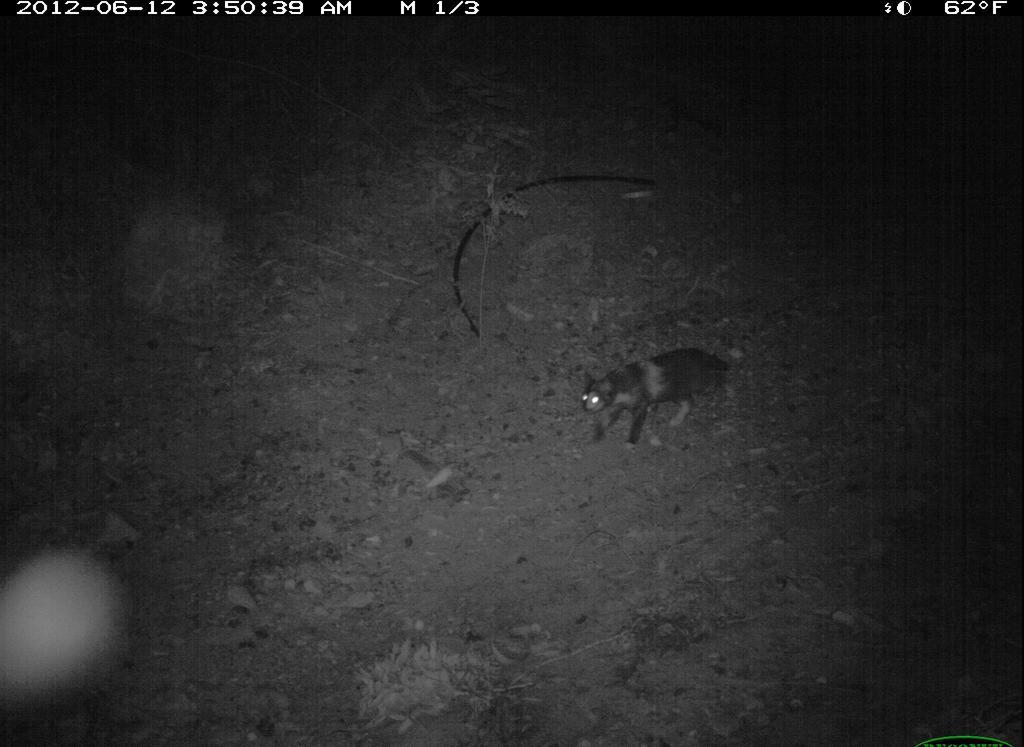cat: (571, 338, 757, 451)
